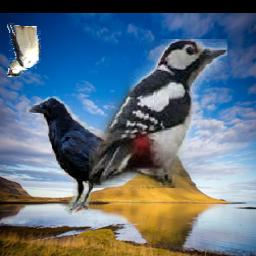Crow: (27, 97, 155, 216)
Swallow: (8, 23, 42, 77)
Woodpecker: (89, 40, 227, 189)
